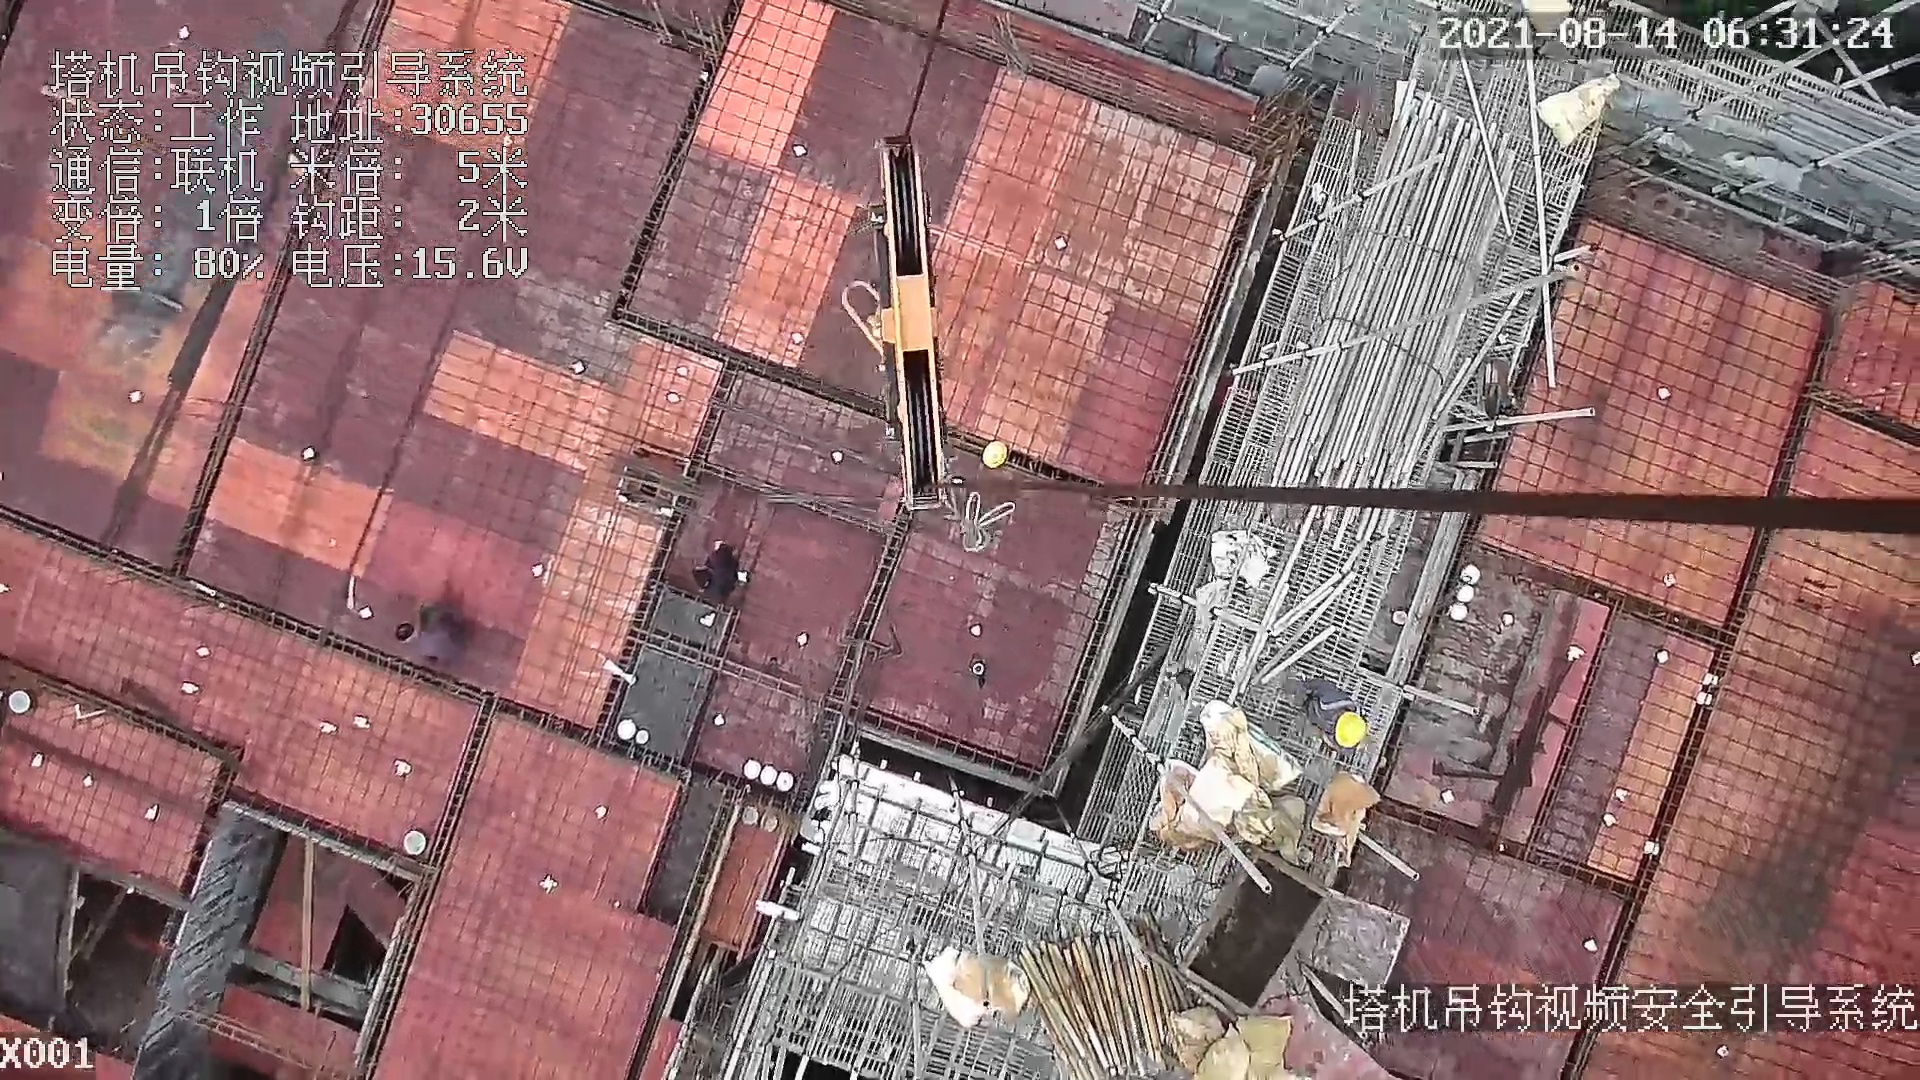helmet: (1336, 705, 1366, 752), (980, 435, 1015, 472)
hook: (841, 133, 955, 513)
hopper: (1170, 854, 1329, 1010)
person: (1279, 669, 1376, 745), (386, 606, 468, 671), (685, 542, 753, 602)
scaffold: (1303, 99, 1508, 539), (1014, 899, 1199, 1072)
